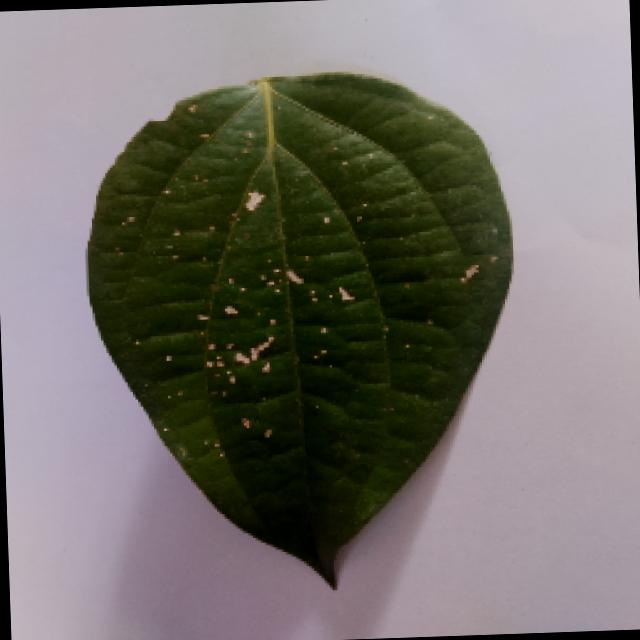pollu-disease: (77, 63, 522, 598)
